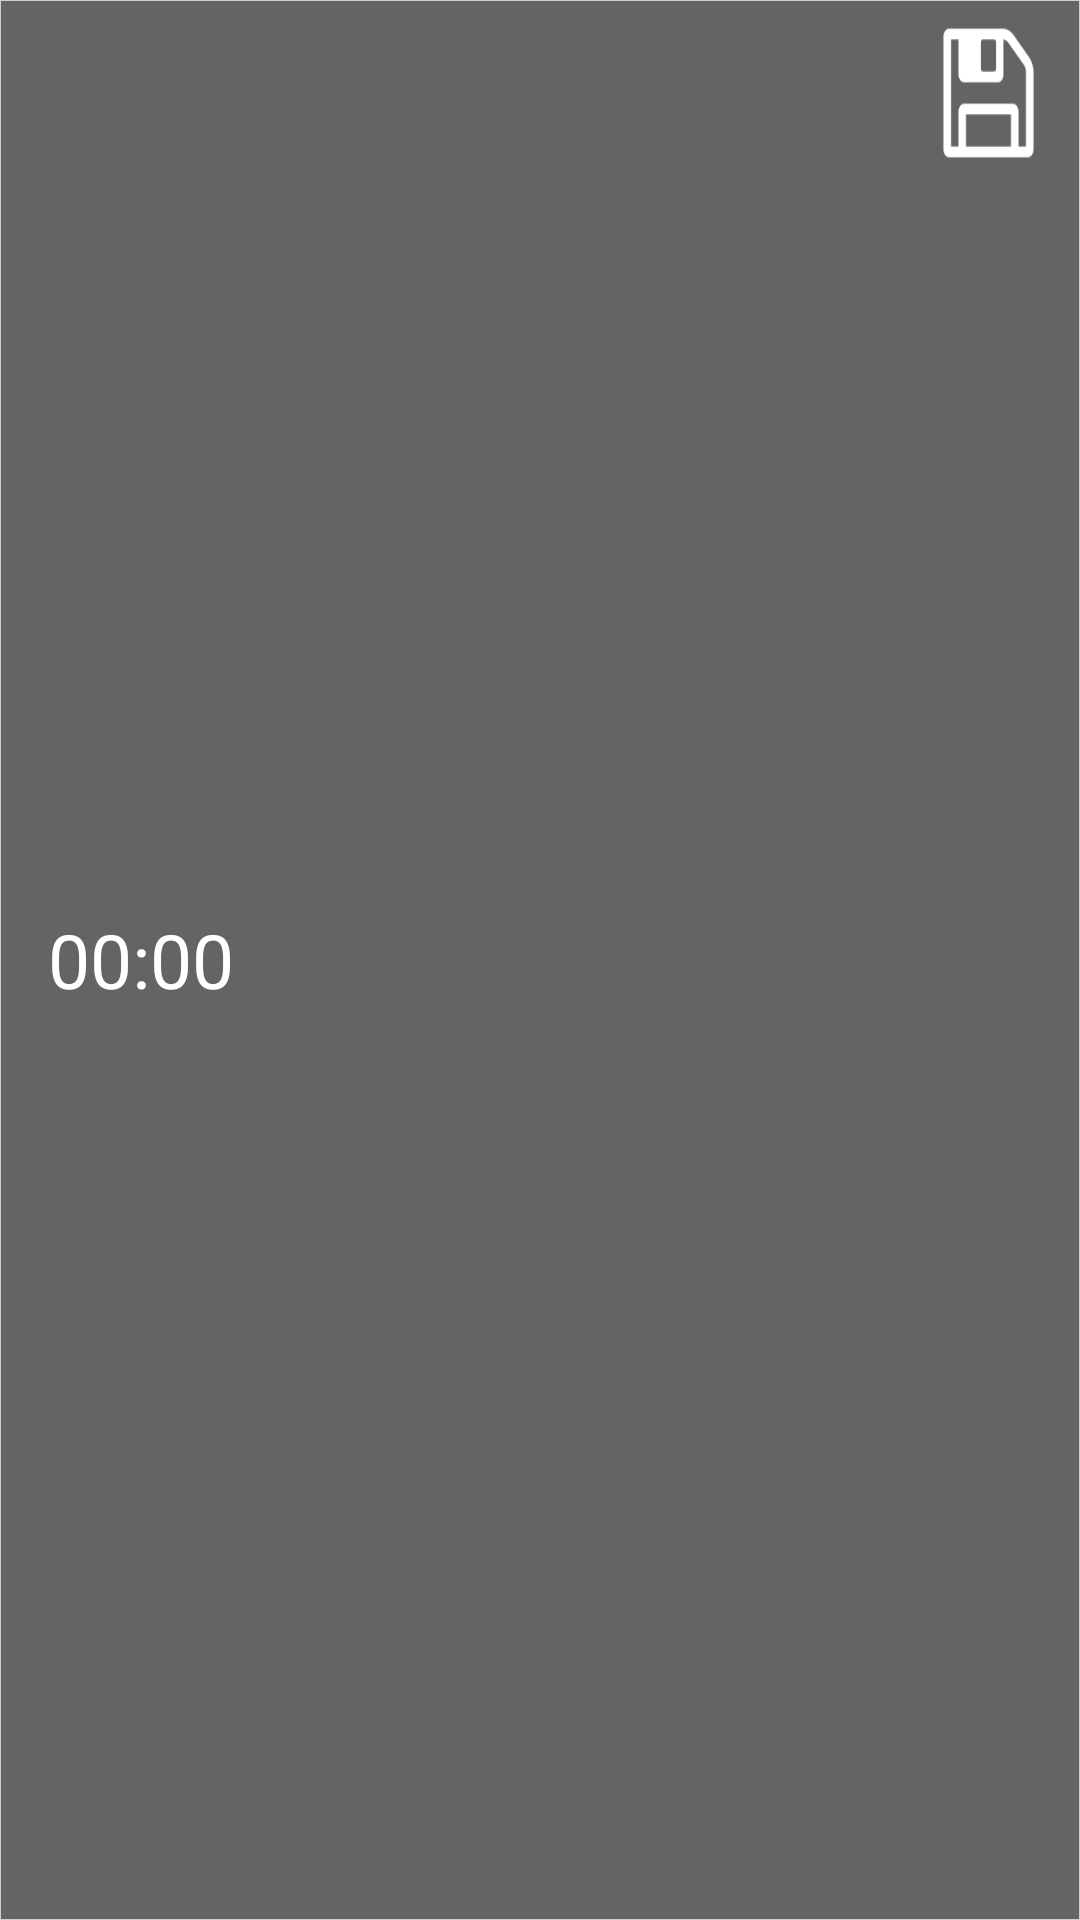

Where icons sit on this 1080*1920 app screen, as (x1, y1, x2, y2):
savebutton: (943, 28, 1034, 158)
